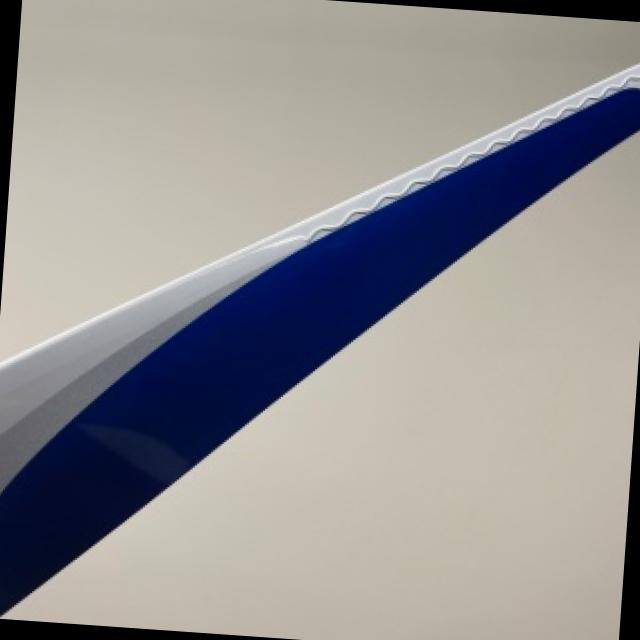healthy: (6, 131, 640, 640)
